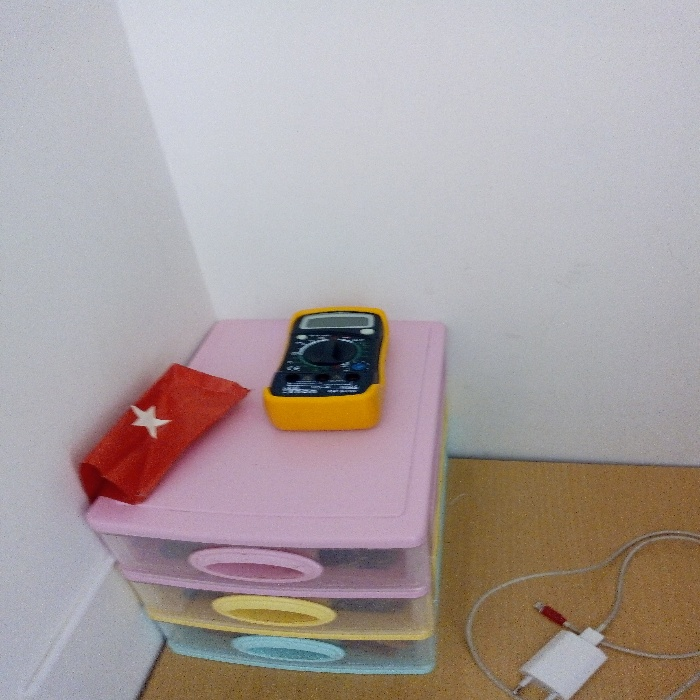multimetre: (264, 288, 387, 425)
